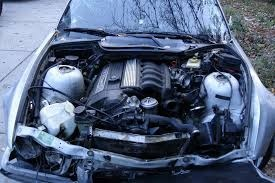Smashed: (6, 23, 275, 183)
